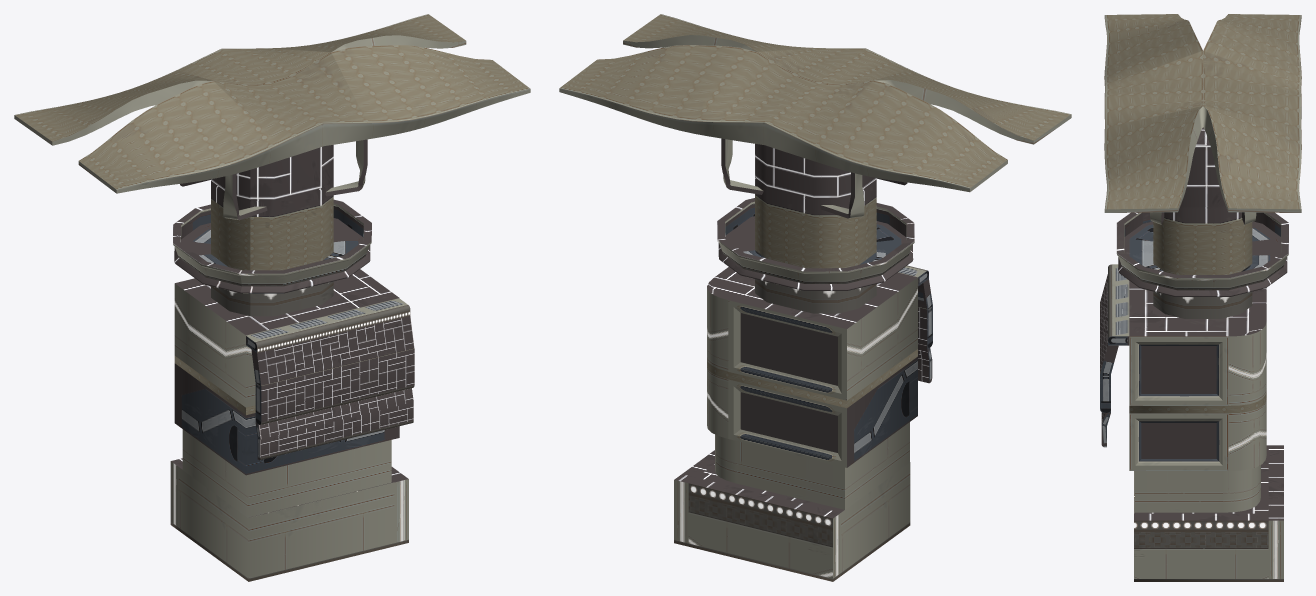
The model's file is KF_SM_PreBuild5.fbx.
3 renders of one model, left to right at view 1: azimuth 30°, elevation 25°; view 2: azimuth 150°, elevation 25°; view 3: azimuth 270°, elevation 25°, orthographic. The views are drawn at different scales.
Parts seen in each view (by area): view 1: Box037, Box034, Box036, Box035, Box033; view 2: Box037, Box034, Box036, Box033, Box035; view 3: Box037, Box034, Box036, Box033, Box035.
Boxes of the visible parts, box(x1,y1,x2,y2) form: Box037: box(14, 14, 530, 220); Box034: box(174, 269, 399, 517); Box036: box(173, 145, 371, 316); Box035: box(246, 298, 414, 460); Box033: box(170, 458, 408, 581); Box037: box(559, 14, 1071, 218); Box034: box(707, 267, 917, 509); Box036: box(717, 144, 914, 313); Box033: box(674, 450, 910, 581); Box035: box(898, 265, 932, 383); Box037: box(1104, 14, 1301, 224); Box034: box(1129, 281, 1266, 512); Box036: box(1116, 127, 1288, 318); Box033: box(1134, 445, 1283, 581); Box035: box(1100, 264, 1129, 447).
Size of the model in its own units: 7931 by 8731 by 3480.
